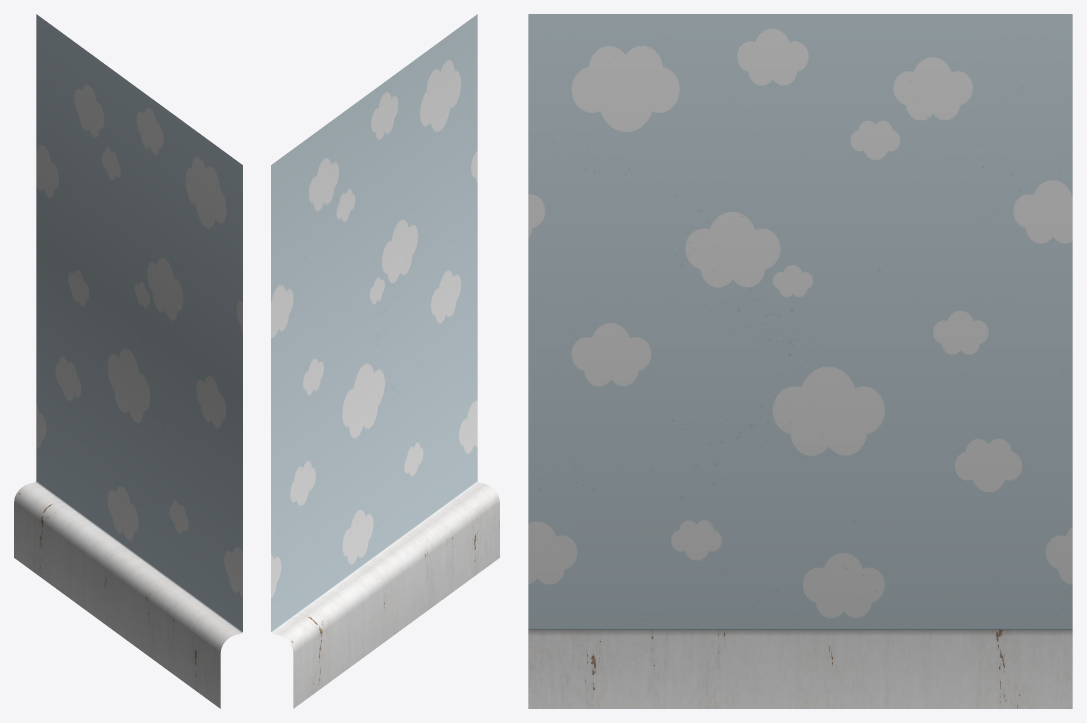
File: wall+coving.fbx
3 renders of one model, left to right at view 1: azimuth 30°, elevation 25°; view 2: azimuth 150°, elevation 25°; view 3: azimuth 270°, elevation 25°, orthographic. The views are drawn at different scales.
Parts seen in each view (by area): view 1: wall_coving; view 2: wall_coving; view 3: wall_coving.
Part boxes in pixels (x1,y1,x2,y2): wall_coving: (14,14,242,708); wall_coving: (271,14,499,708); wall_coving: (528,14,1072,708).
Size of the model in its own units: 200 by 4600 by 3200.
Materials: 1 (1 with a texture image).
